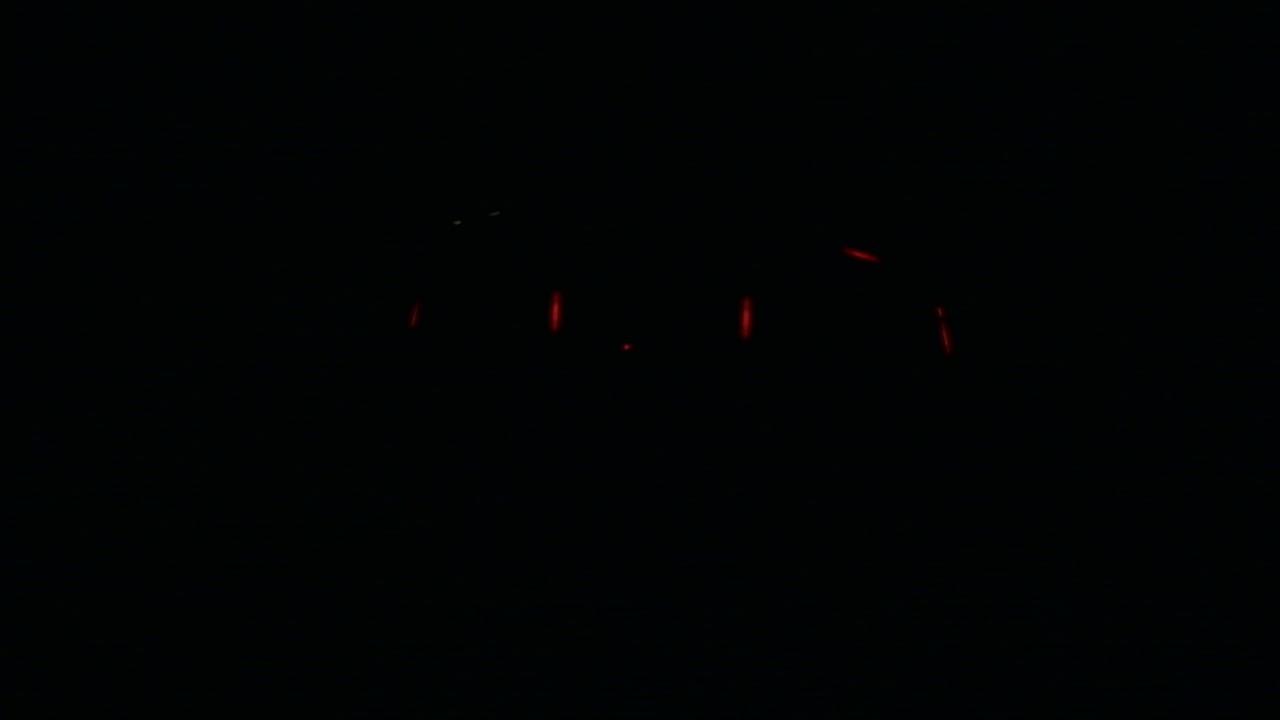lamp: (736, 287, 755, 339), (545, 290, 561, 338)
pair2: (546, 289, 754, 339)
